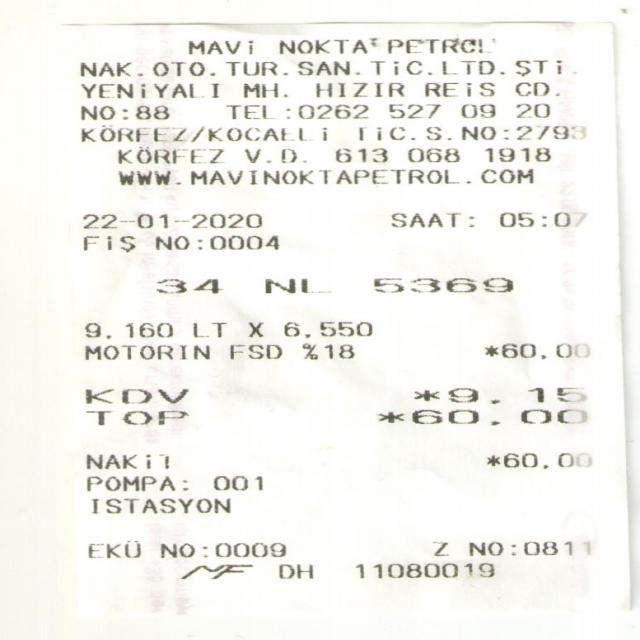text: (117, 167, 532, 184), (78, 124, 324, 141), (378, 407, 584, 424), (411, 385, 589, 404), (353, 560, 496, 580), (82, 211, 260, 226), (465, 538, 592, 558), (156, 540, 288, 558), (223, 103, 367, 119), (480, 450, 595, 470), (79, 82, 222, 98), (368, 59, 505, 75), (459, 124, 587, 141), (152, 233, 280, 250), (484, 341, 592, 360), (373, 277, 512, 291), (495, 208, 587, 229), (91, 497, 229, 511), (274, 36, 368, 56), (84, 343, 208, 358), (386, 36, 494, 53), (117, 146, 222, 162), (85, 388, 186, 403), (86, 475, 187, 490), (283, 320, 371, 337), (390, 212, 474, 229), (84, 410, 185, 424), (84, 321, 171, 337), (84, 453, 171, 469), (85, 538, 143, 560), (261, 277, 330, 295), (315, 82, 402, 96), (183, 37, 252, 54), (422, 81, 493, 97), (81, 105, 167, 118), (483, 146, 552, 162), (76, 60, 143, 76), (78, 234, 134, 252), (178, 564, 250, 578), (223, 60, 284, 76), (156, 278, 220, 293), (293, 60, 359, 74), (153, 62, 215, 76), (302, 342, 352, 359), (243, 148, 302, 162), (514, 60, 562, 76), (352, 126, 406, 140), (228, 343, 278, 358), (387, 103, 440, 117), (408, 146, 459, 160), (513, 81, 557, 97), (336, 146, 386, 160), (459, 102, 496, 119), (212, 476, 260, 489), (242, 82, 284, 96), (278, 564, 312, 578), (516, 103, 548, 117), (193, 322, 225, 336), (422, 125, 442, 141), (432, 540, 448, 556), (248, 322, 262, 336)
